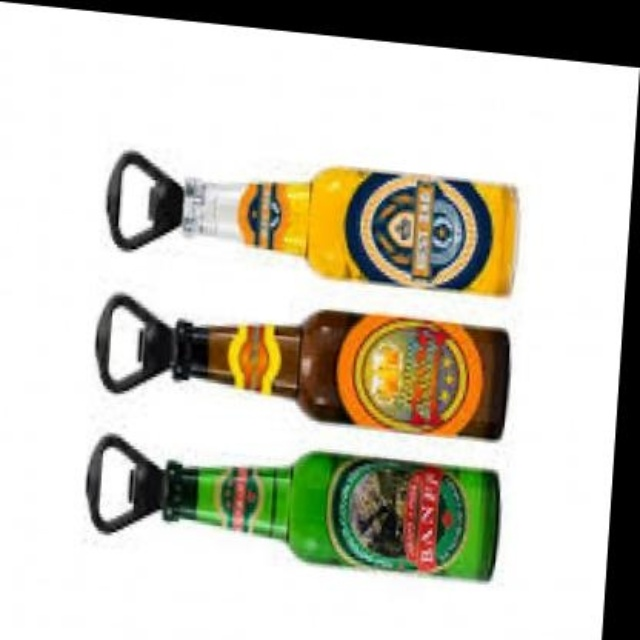trash: (95, 294, 508, 437), (86, 435, 497, 578), (108, 152, 515, 294)
